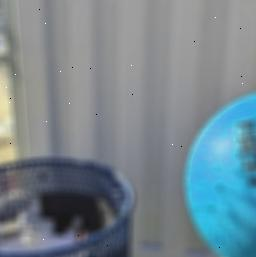algae: (187, 87, 256, 257)
